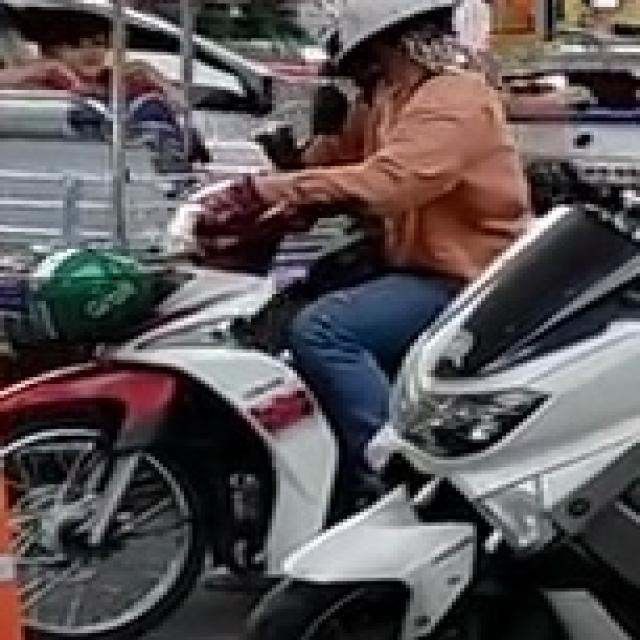helmet: (17, 242, 159, 343), (318, 0, 468, 73)
tyre: (0, 408, 205, 637)
